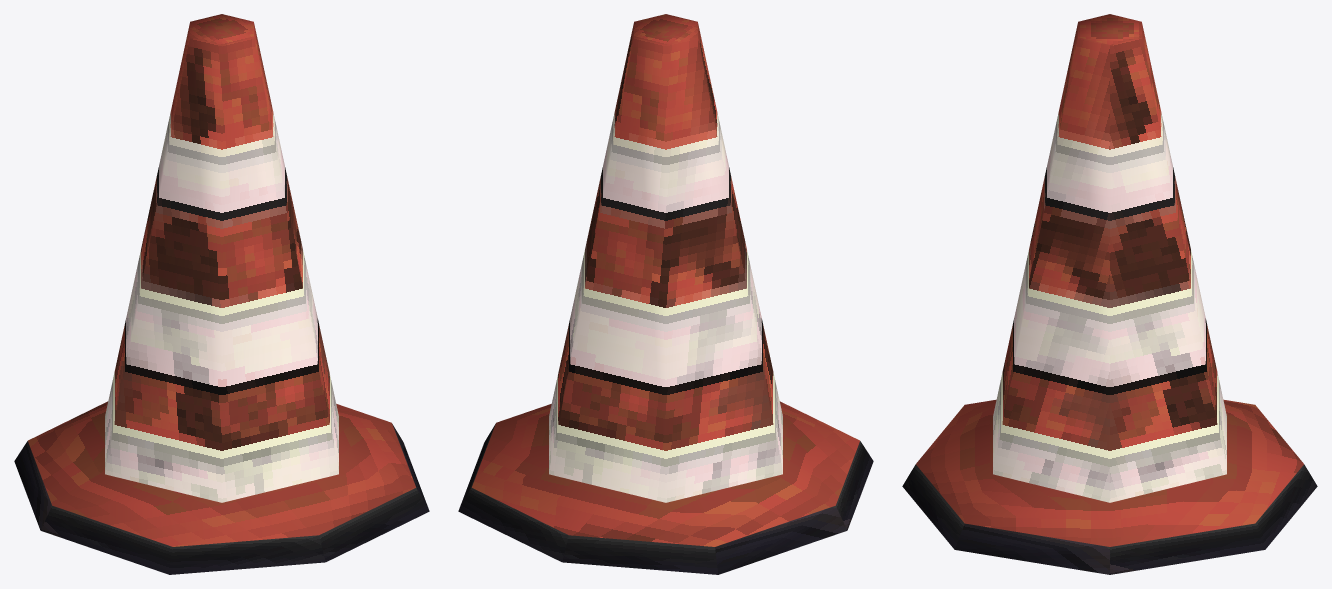
The model's file is Traffic_Cone_Circular.fbx.
The picture shows the model from 3 angles, left to right: view 1: azimuth 30°, elevation 25°; view 2: azimuth 150°, elevation 25°; view 3: azimuth 270°, elevation 25°; orthographic projection.
Parts seen in each view (by area): view 1: Traffic_Cone_ver_01; view 2: Traffic_Cone_ver_01; view 3: Traffic_Cone_ver_01.
Boxes of the visible parts, x1,y1,x2,y2 form: Traffic_Cone_ver_01: (14, 14, 429, 574); Traffic_Cone_ver_01: (458, 14, 873, 574); Traffic_Cone_ver_01: (902, 14, 1317, 574).
Size of the model in its own units: 42.51 by 51.11 by 42.12.
